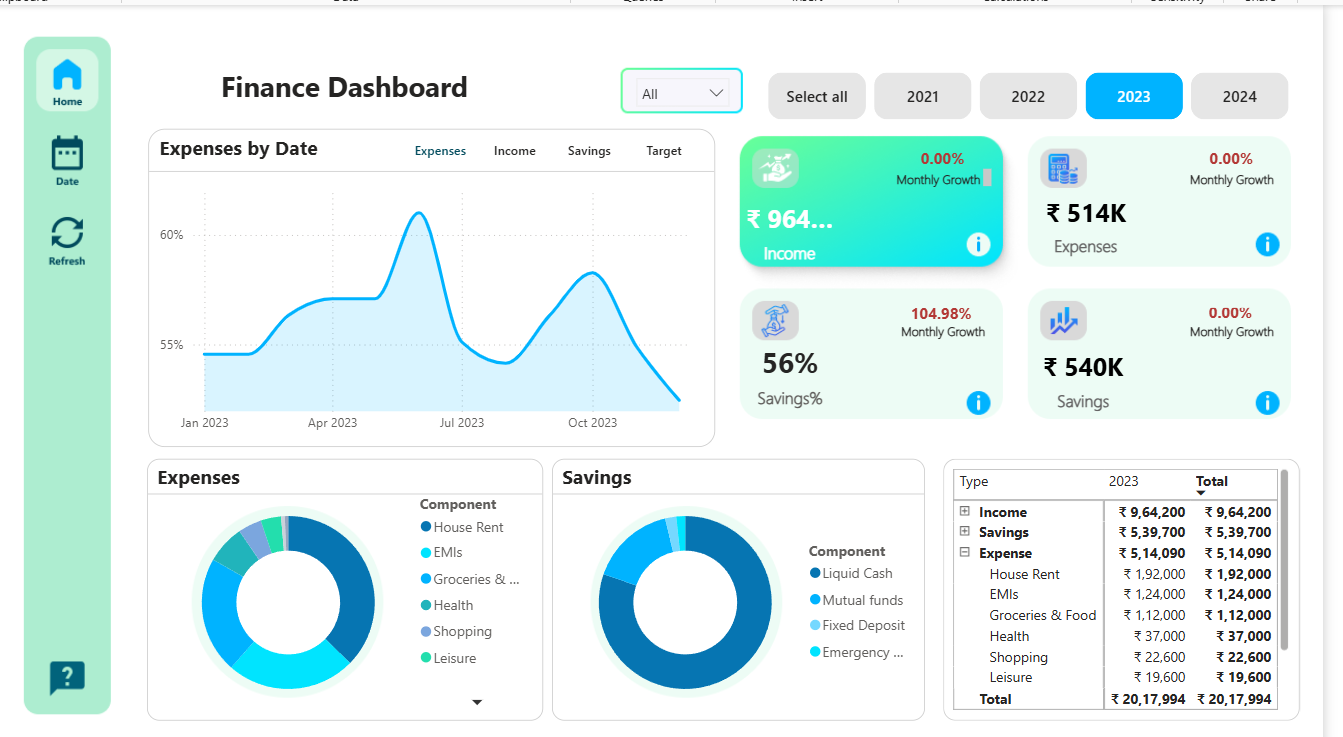

This screenshot's page, from the dashboard's own definition file:
{"tool":"powerbi","page":{"name":"Page 1","canvas":[1280,720],"ordinal":0},"visuals":[{"type":"card","fields":{"Values":["Dataset.Income_Monthly_Gr"]},"box":[882.9,135,61.8,26.4],"z":0,"group":"g1"},{"type":"card","fields":{"Values":["Dataset.Savings_Monthly_Gr"]},"box":[1161.1,135.5,61.8,26.4],"z":0,"group":"g3"},{"type":"card","fields":{"Values":["Dataset.Expenses_Monthly_Gr"]},"box":[1153.8,283.9,74.6,23.8],"z":0,"group":"g4"},{"type":"card","fields":{"Values":["Dataset.Ex_ws_Sav"]},"box":[859.5,286.1,105,28.8],"z":0,"group":"g2"},{"type":"donutChart","title":"Savings","fields":{"Y":["Dataset.Savings"],"Category":["Dataset.Component"]},"box":[536.2,437.5,360,252.5],"z":0},{"type":"textbox","box":[862,153.6,103.6,27.1],"z":1000,"group":"g1"},{"type":"textbox","box":[1140,154.1,103.6,27.3],"z":1000,"group":"g3"},{"type":"card","fields":{"Values":["Dataset.Expenses"]},"box":[993.8,167.5,113.8,88.8],"z":1000},{"type":"textbox","box":[861.8,300.5,103.6,27.3],"z":1000,"group":"g2"},{"type":"textbox","box":[1140,300.5,103.6,27.3],"z":1000,"group":"g4"},{"type":"areaChart","fields":{"Y":["Dataset.Line_Chart_Measures"],"Category":["Dataset.Date"]},"box":[146.4,120,547.3,307.3],"z":2000},{"type":"card","fields":{"Values":["Dataset.Savings"]},"box":[993.8,326.2,108.8,71.2],"z":3000},{"type":"card","fields":{"Values":["Dataset.Savings%"]},"box":[711.2,317.5,107.5,80],"z":4000},{"type":"advancedSlicerVisual","fields":{"Values":["Dataset.Year"]},"box":[740,60,513.8,55],"z":5000},{"type":"donutChart","title":"Expenses","fields":{"Category":["Dataset.Component"],"Y":["Dataset.Expenses"]},"box":[145,437.5,382.5,252.5],"z":6000},{"type":"pivotTable","fields":{"Values":["Dataset.Total_Values"],"Rows":["Dataset.Type","Dataset.Component"],"Columns":["Dataset.Year"]},"box":[913.8,437.5,343.8,252.5],"z":7000},{"type":"card","fields":{"Values":["Dataset.Income"]},"box":[716.4,180.9,97.3,74.5],"z":8000},{"type":"textbox","box":[210.9,55.5,300,46.4],"z":9000},{"type":"slicer","fields":{"Values":["Selected_Date.Month-yr"]},"box":[606.5,60.5,110,44],"z":10000},{"type":"advancedSlicerVisual","fields":{"Values":["Line_Selection_Table.Type"]},"box":[390.9,122.7,290,37.3],"z":11000},{"type":"group","id":"g1","title":"Group 1","box":[862,135,103.6,45.7],"z":12000},{"type":"group","id":"g2","title":"Group 1","box":[859.5,286.1,105.9,41.7],"z":13000},{"type":"group","id":"g3","title":"Group 1","box":[1140,135.5,103.6,45.5],"z":14000},{"type":"group","id":"g4","title":"Group 1","box":[1140,283.9,103.6,43.8],"z":15000},{"type":"actionButton","box":[32.9,117.1,67.1,64.3],"z":16000},{"type":"actionButton","box":[33.3,197.8,66.7,66.7],"z":18000},{"type":"shape","box":[144.8,49.5,55.5,54.3],"z":19000},{"type":"shape","box":[146,53.1,51.9,48.3],"z":20000},{"type":"shape","box":[33.8,352.3,70,149.6],"z":20001},{"type":"shape","box":[129.1,41,82,68.8],"z":20002}]}

Visuals, with their boxes on the page's 1280x720 design canvas (x1, y1, x2, y2). These are canvas units, not pixel positions in the 1343x737 screenshot, which may show the page scaled, cropped or inside an application window:
card - Dataset.Income_Monthly_Gr: region(883, 135, 945, 161)
card - Dataset.Savings_Monthly_Gr: region(1161, 136, 1223, 162)
card - Dataset.Expenses_Monthly_Gr: region(1154, 284, 1228, 308)
card - Dataset.Ex_ws_Sav: region(860, 286, 964, 315)
"Savings" donutChart: region(536, 438, 896, 690)
textbox: region(862, 154, 966, 181)
textbox: region(1140, 154, 1244, 181)
card - Dataset.Expenses: region(994, 168, 1108, 256)
textbox: region(862, 300, 965, 328)
textbox: region(1140, 300, 1244, 328)
areaChart - Dataset.Line_Chart_Measures x Dataset.Date: region(146, 120, 694, 427)
card - Dataset.Savings: region(994, 326, 1103, 397)
card - Dataset.Savings%: region(711, 318, 819, 398)
advancedSlicerVisual - Dataset.Year: region(740, 60, 1254, 115)
"Expenses" donutChart: region(145, 438, 528, 690)
pivotTable - Dataset.Total_Values x Dataset.Type: region(914, 438, 1258, 690)
card - Dataset.Income: region(716, 181, 814, 255)
textbox: region(211, 56, 511, 102)
slicer - Selected_Date.Month-yr: region(606, 60, 716, 104)
advancedSlicerVisual - Line_Selection_Table.Type: region(391, 123, 681, 160)
"Group 1" group: region(862, 135, 966, 181)
"Group 1" group: region(860, 286, 965, 328)
"Group 1" group: region(1140, 136, 1244, 181)
"Group 1" group: region(1140, 284, 1244, 328)
actionButton: region(33, 117, 100, 181)
actionButton: region(33, 198, 100, 264)
shape: region(145, 50, 200, 104)
shape: region(146, 53, 198, 101)
shape: region(34, 352, 104, 502)
shape: region(129, 41, 211, 110)
